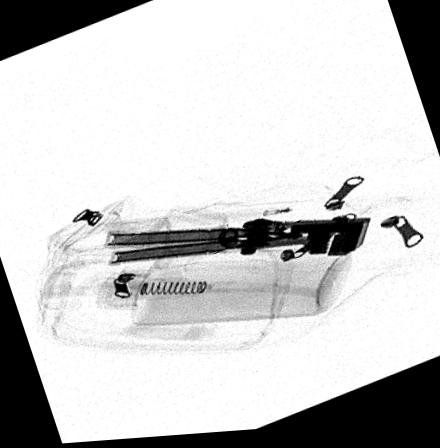Pliers: (100, 220, 367, 268)
